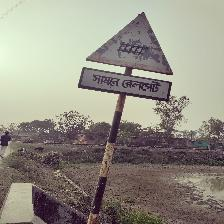Rail-crossing: (82, 12, 175, 103)
